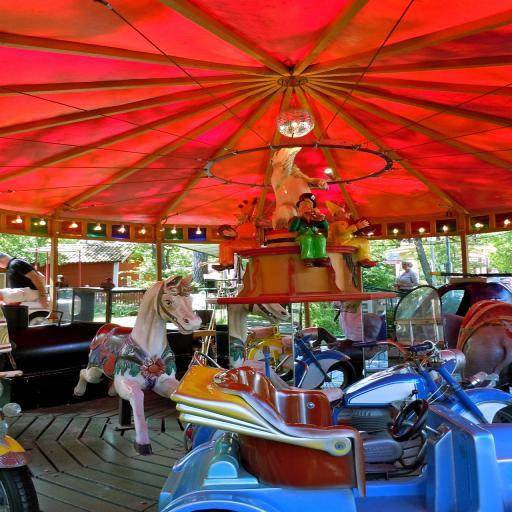Horse: (70, 274, 204, 458)
